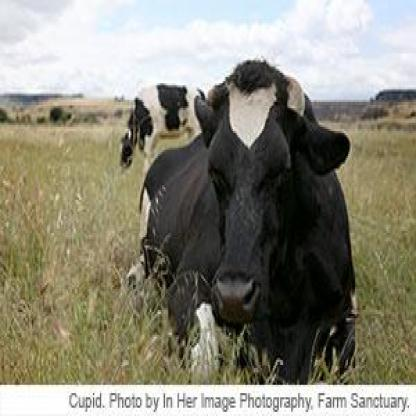cow: (140, 58, 355, 381), (122, 84, 207, 182)
